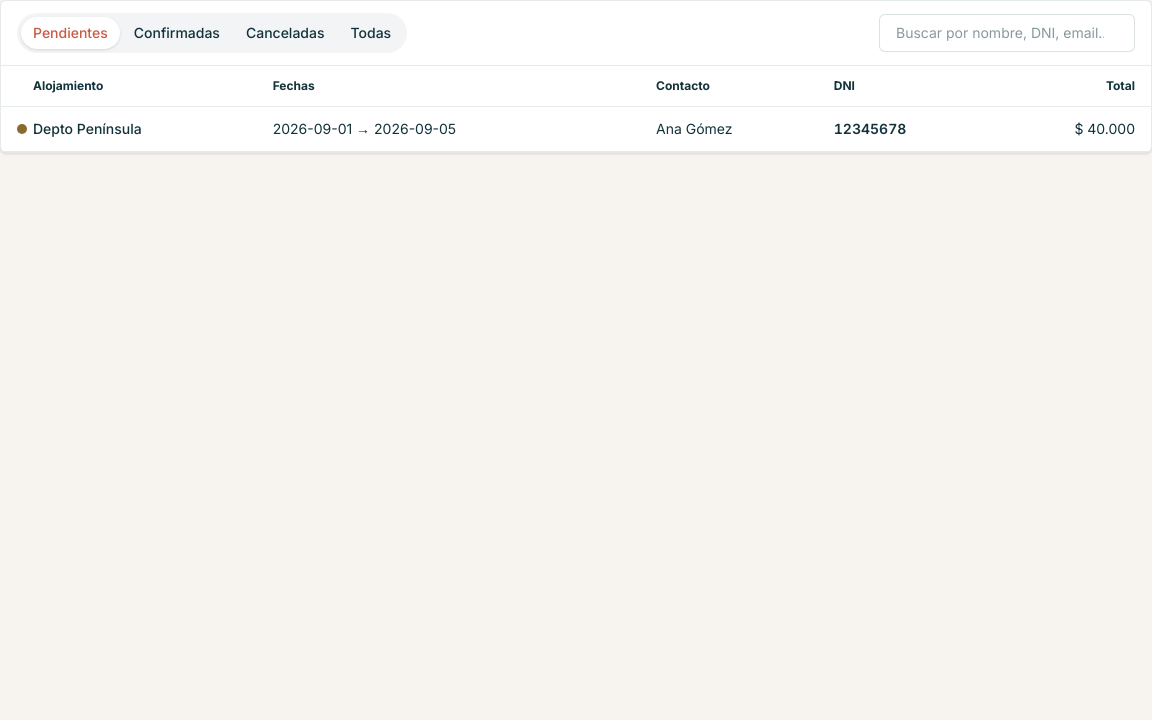
Test: ReservasTable — fila expandible › cancelar la edición vuelve al detalle de solo lectura
Click the text "Depto Península". click: (87, 128)
box: left=33, top=106, right=273, bottom=152
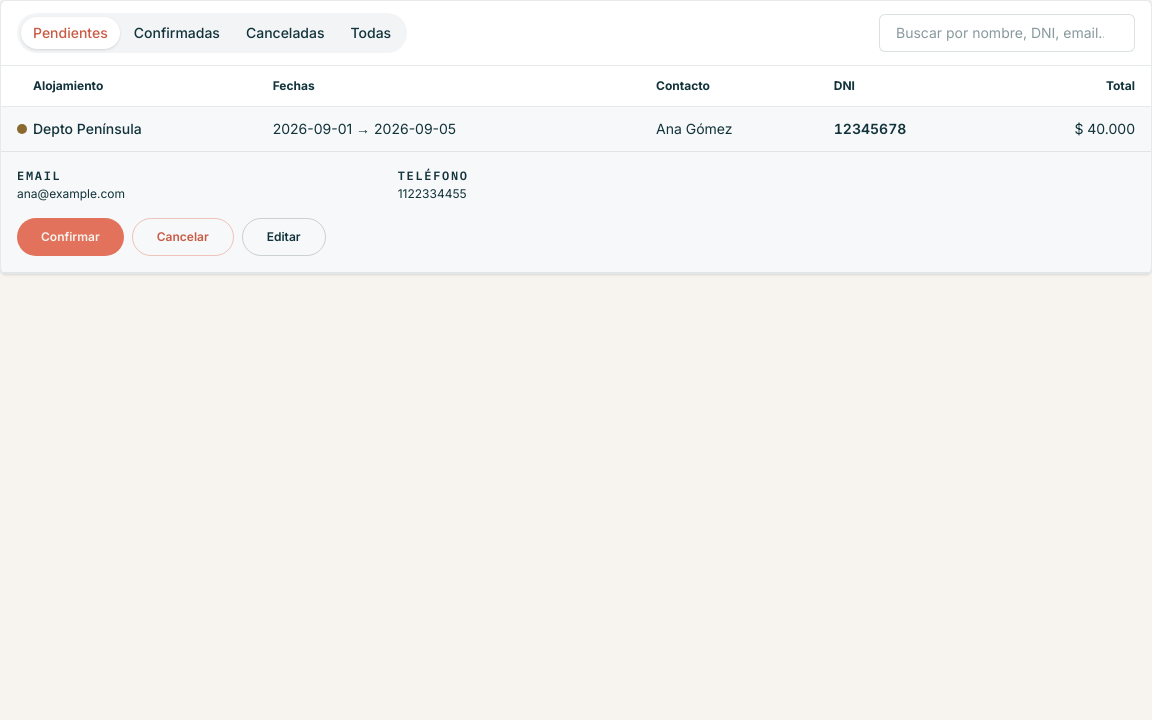
Click the button "Editar". click: (284, 237)
box: left=242, top=218, right=326, bottom=256
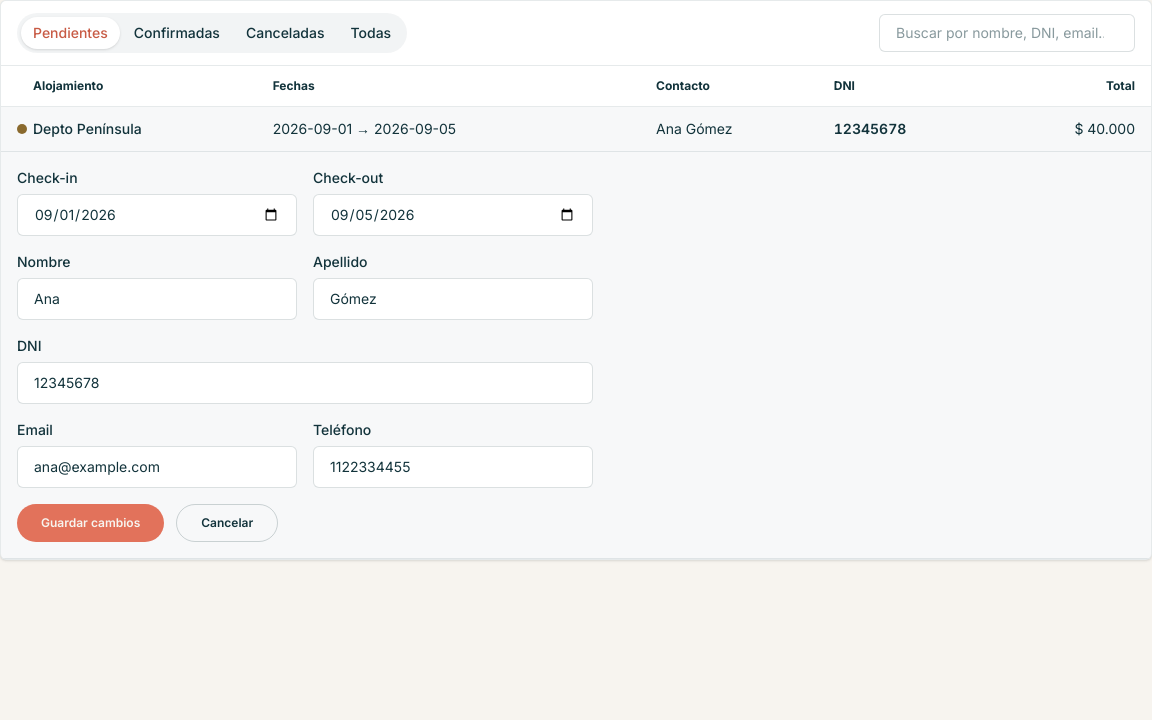
Click the button "Cancelar". click: (227, 523)
box: left=176, top=504, right=278, bottom=542
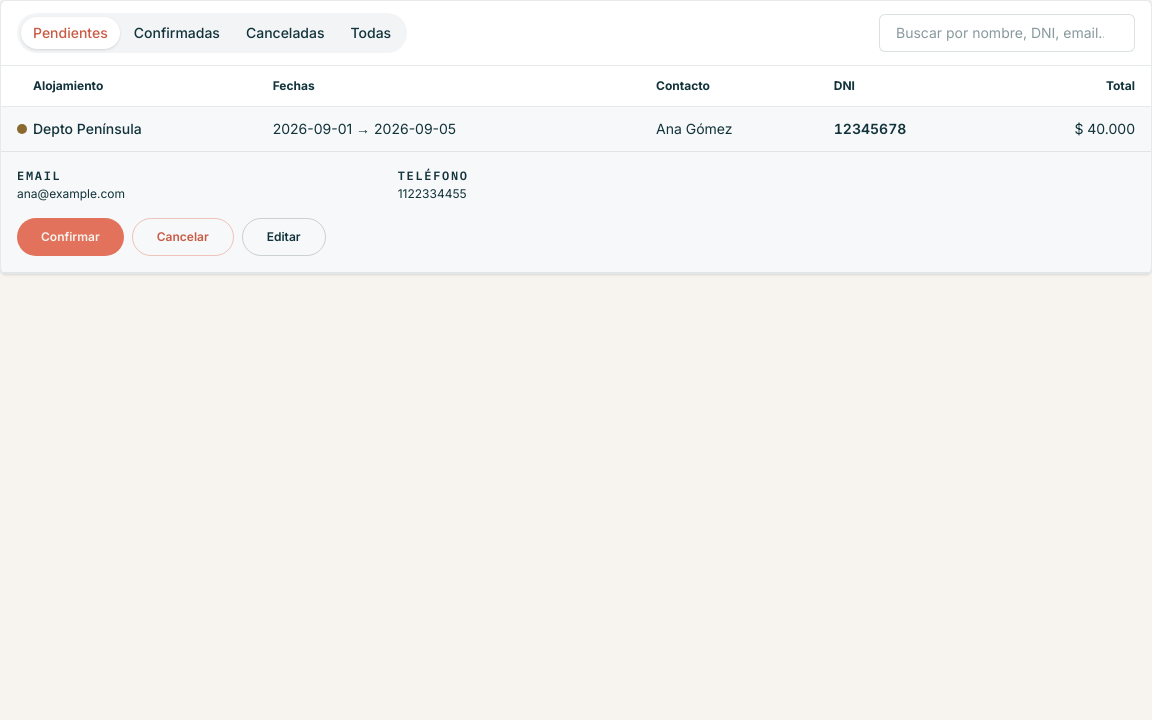
Check: the text "ana@example.com" is shown, box left=17, top=186, right=125, bottom=201
Check: the button "Guardar cambios" is gone
